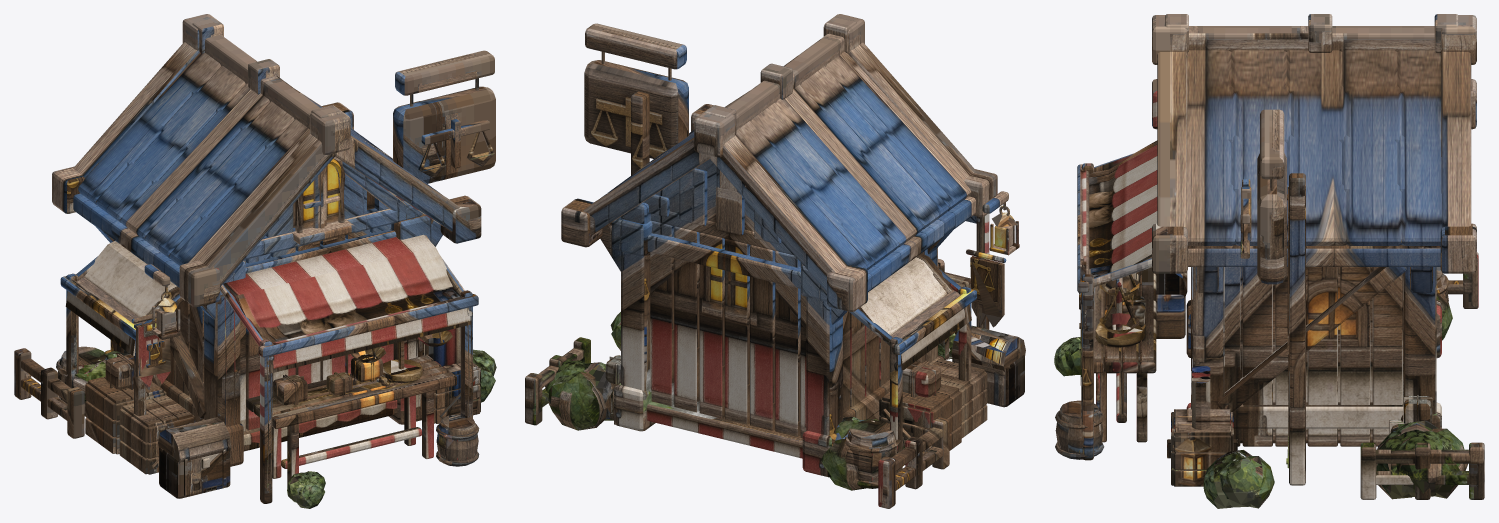
Rendered from trade_market.glb.
The picture shows the model from 3 angles, left to right: view 1: azimuth 30°, elevation 25°; view 2: azimuth 150°, elevation 25°; view 3: azimuth 270°, elevation 25°; orthographic projection. The views are drawn at different scales.
Parts seen in each view (by area): view 1: Carved hanging sign, Carved roof verge, Linen work canopy, Corner upright, Carved roof verge.002, Carved roof verge.001, Awning front beam, Table top plank, Ridge timber, Sign bracket, Canvas canopy stripe.002, Canvas canopy stripe.003 (+81 smaller); view 2: Carved hanging sign, Carved roof verge.001, Linen work canopy, Corner upright.001, Corner upright.003, Wall timber board.011, Wall timber board.005, Wall timber board.009, Wall timber board.003, Wall timber board.007, Wall timber board.013, Carved roof verge.003 (+66 smaller); view 3: Ridge timber, Carved roof verge.003, Carved roof verge.002, Trade sign post, Roof eave.001, Side wall diagonal.001, Side timber board.007, Side timber board.009, Side timber board.011, Side timber board.003, Corner upright.003, Side wall lower tie.001 (+75 smaller).
Boxes of the visible parts, x1,y1,x2,y2 form: Carved hanging sign: (393, 86, 495, 183); Carved roof verge: (198, 133, 336, 286); Linen work canopy: (65, 241, 179, 355); Corner upright: (204, 296, 240, 426); Carved roof verge.002: (335, 135, 459, 231); Carved roof verge.001: (73, 42, 198, 177); Awning front beam: (258, 294, 478, 357); Table top plank: (272, 372, 456, 428); Ridge timber: (205, 35, 320, 128); Sign bracket: (395, 50, 494, 95); Canvas canopy stripe.002: (270, 261, 345, 361); Canvas canopy stripe.003: (295, 255, 370, 355); Carved hanging sign: (584, 60, 688, 158); Carved roof verge.001: (708, 135, 849, 291); Linen work canopy: (859, 253, 971, 370); Corner upright.001: (806, 297, 842, 435); Corner upright.003: (621, 202, 650, 390); Wall timber board.011: (674, 226, 699, 412); Wall timber board.005: (750, 245, 775, 430); Wall timber board.009: (699, 233, 724, 418); Wall timber board.003: (775, 251, 800, 436); Wall timber board.007: (725, 239, 750, 424); Wall timber board.013: (650, 221, 674, 405); Carved roof verge.003: (583, 137, 709, 235); Ridge timber: (1189, 26, 1434, 51); Carved roof verge.003: (1441, 51, 1471, 227); Carved roof verge.002: (1157, 51, 1187, 227); Trade sign post: (1289, 173, 1305, 485); Roof eave.001: (1188, 245, 1440, 266); Side wall diagonal.001: (1217, 267, 1406, 411); Side timber board.007: (1307, 267, 1337, 446); Side timber board.009: (1340, 267, 1370, 446); Side timber board.011: (1372, 267, 1402, 446); Side timber board.003: (1242, 267, 1272, 446); Corner upright.003: (1404, 267, 1436, 414); Side wall lower tie.001: (1233, 402, 1403, 428).
Bounding box in the file's own units: 4.22 × 3.67 × 3.58.
Materials: 5 (5 with a texture image).
